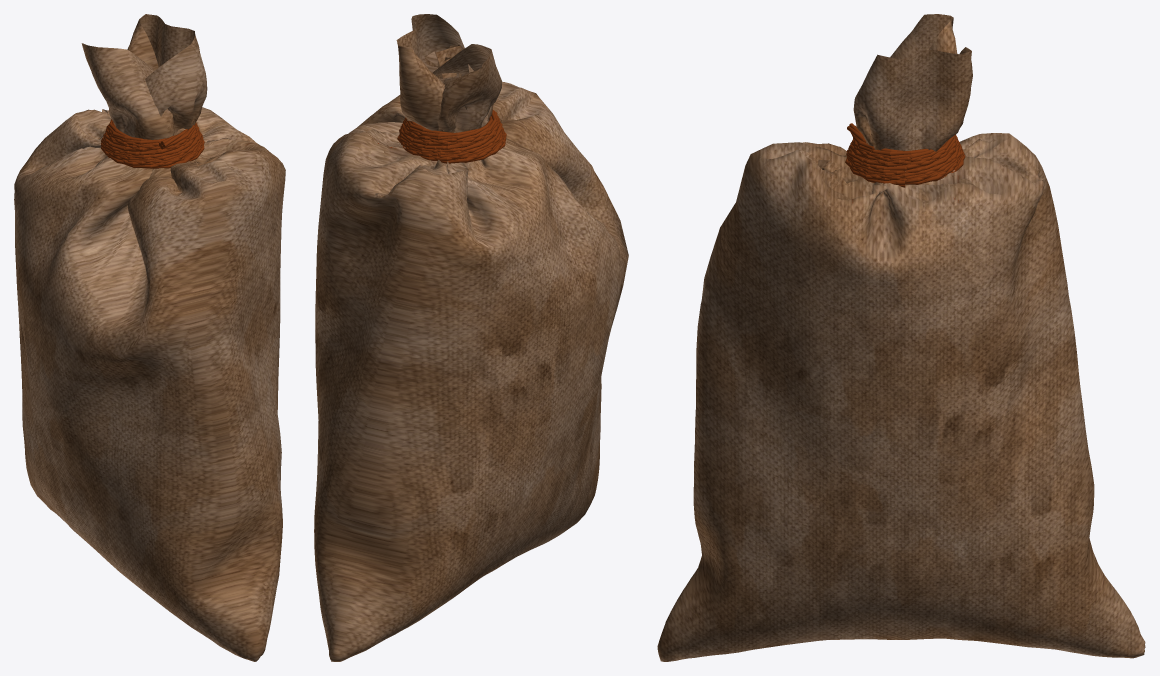
Rendered from House_IngredientBag_v01.fbx.
3 renders of one model, left to right at view 1: azimuth 30°, elevation 25°; view 2: azimuth 150°, elevation 25°; view 3: azimuth 270°, elevation 25°, orthographic. The views are drawn at different scales.
Parts seen in each view (by area): view 1: IngredientBagBody, IngredientBagRope; view 2: IngredientBagBody, IngredientBagRope; view 3: IngredientBagBody, IngredientBagRope.
Part boxes in pixels (x1,y1,x2,y2): IngredientBagBody: [14, 14, 285, 661]; IngredientBagRope: [100, 119, 204, 168]; IngredientBagBody: [314, 14, 628, 661]; IngredientBagRope: [397, 109, 506, 163]; IngredientBagBody: [657, 14, 1145, 661]; IngredientBagRope: [845, 123, 965, 187].
Size of the model in its own units: 35.53 by 53.98 by 76.55.
1 material, 1 textured.
